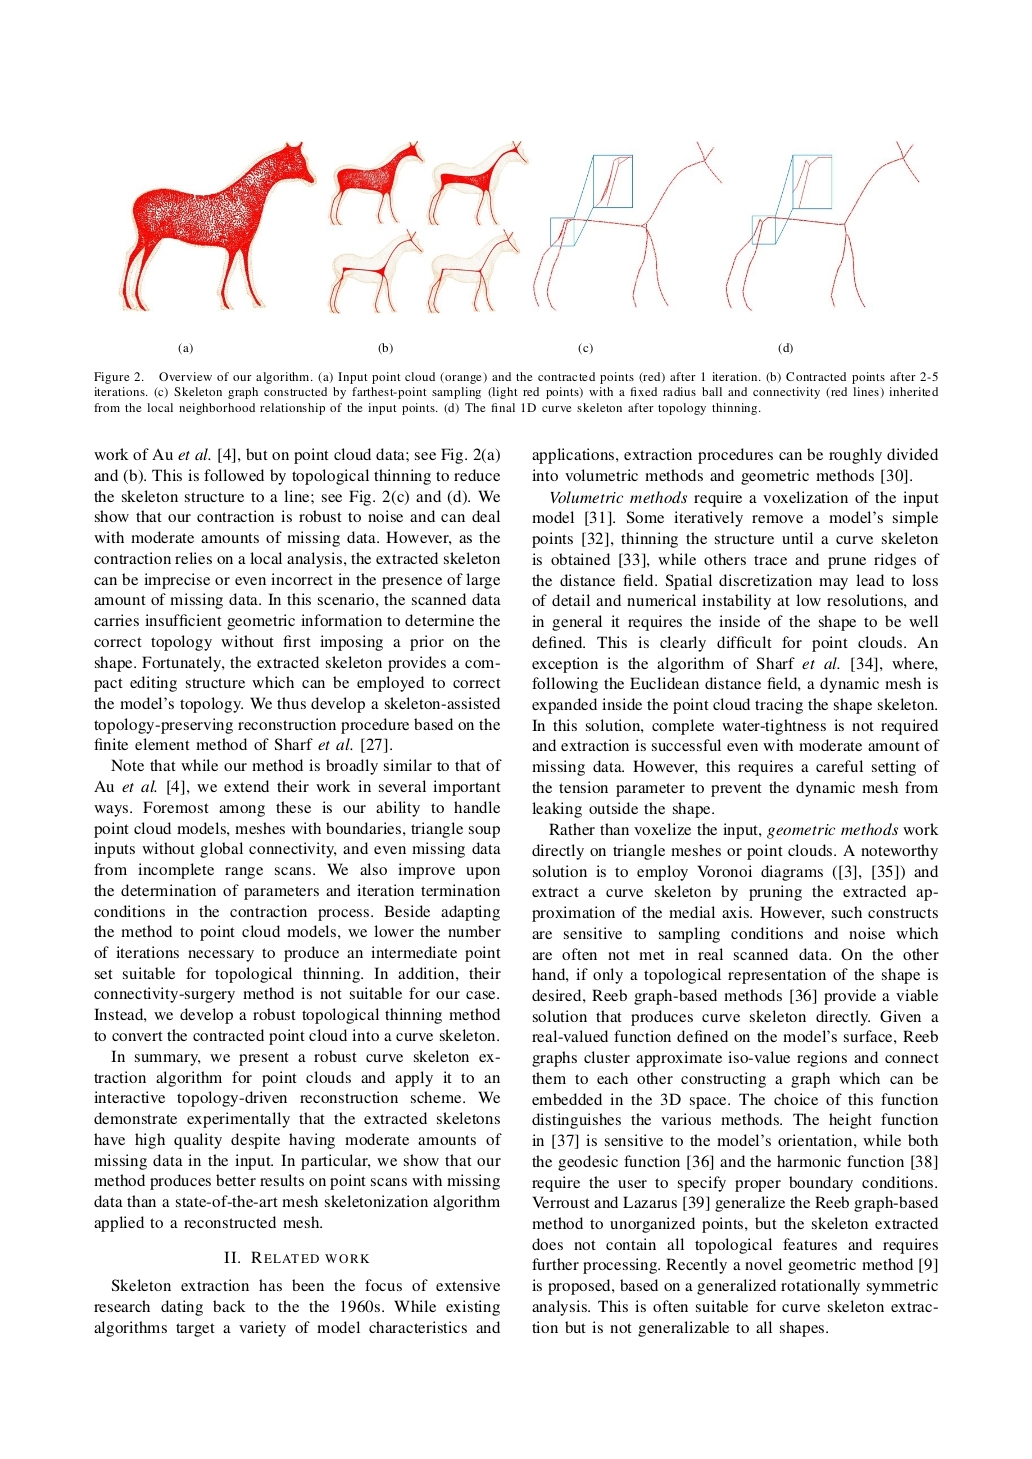figure: (327, 141, 528, 313), (118, 141, 316, 311), (725, 141, 919, 310), (533, 141, 722, 310)
